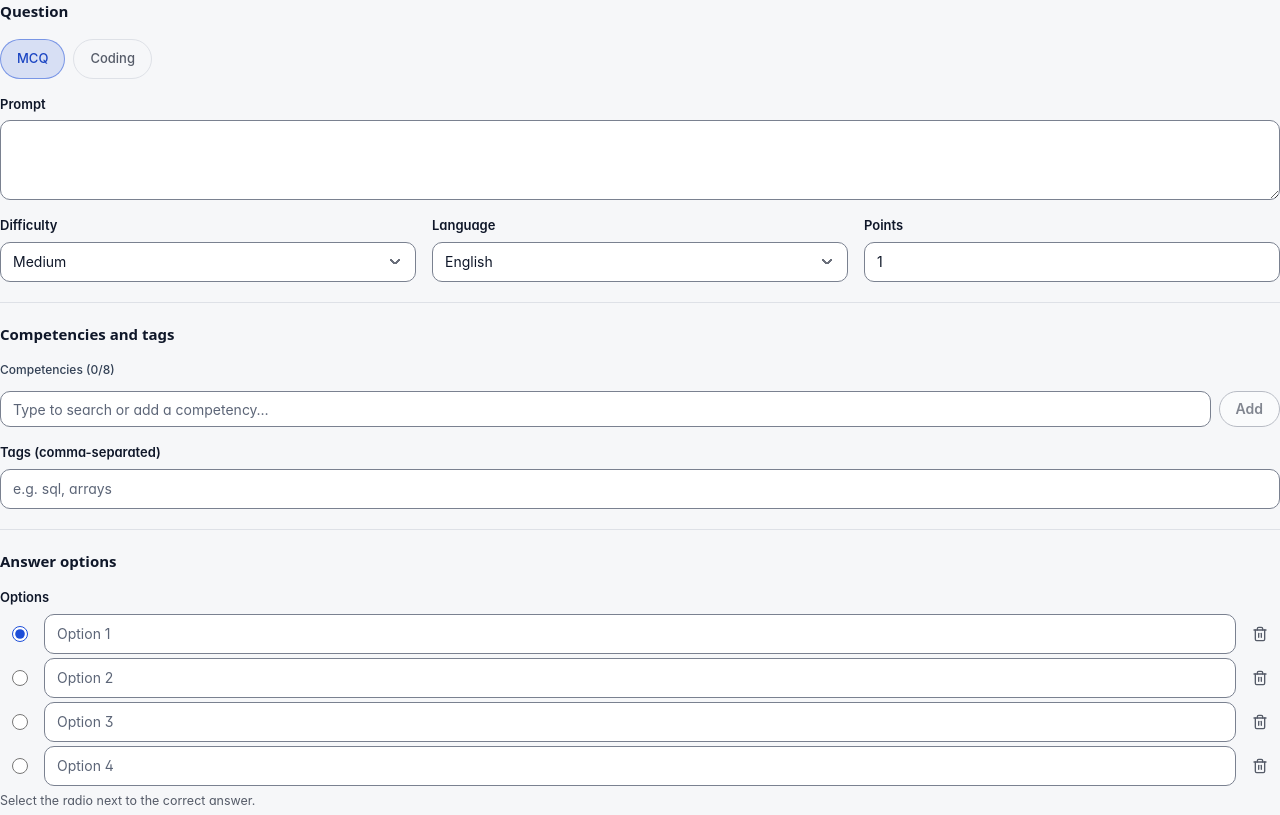
Test case: BankQuestionEditor - creating › switches to the coding form when Coding is chosen
Click the button "Coding" at coordinates (113, 58), box [73,38,152,78]
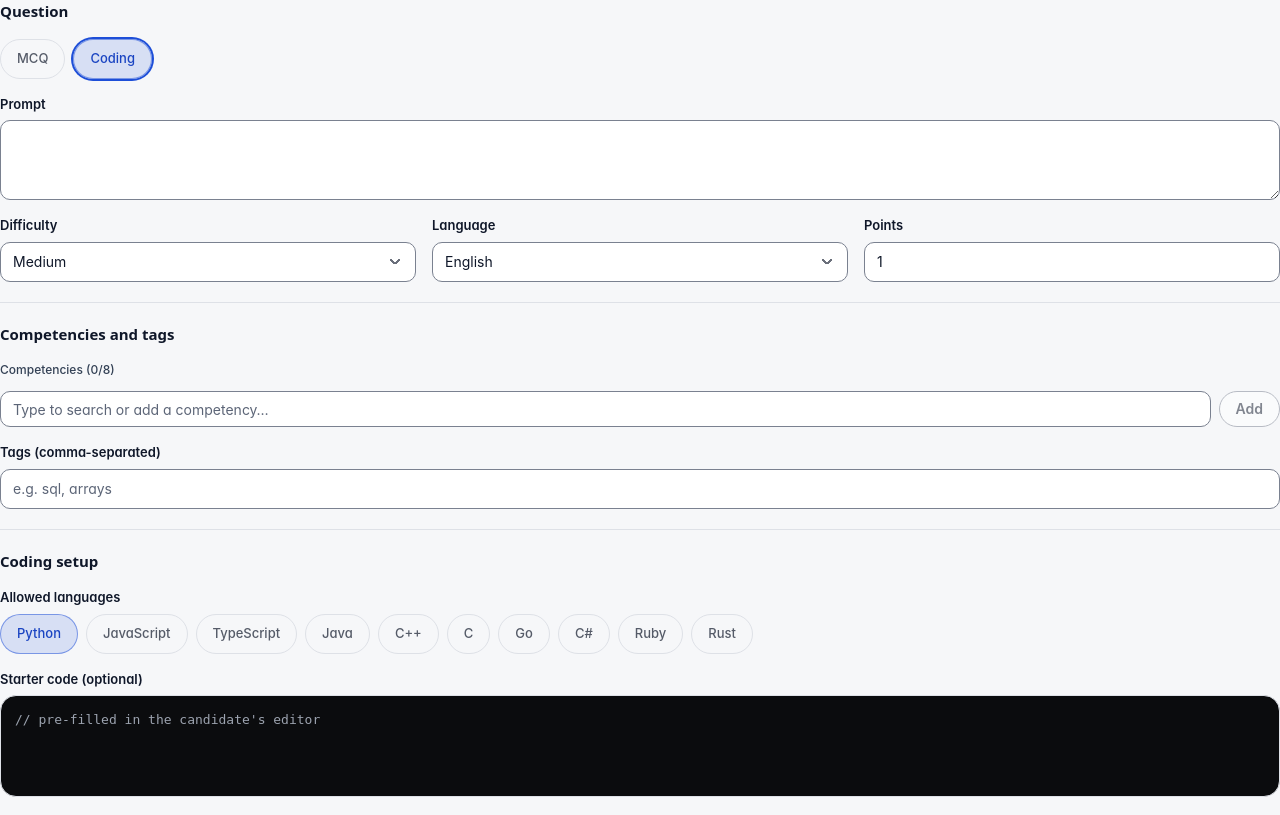
Result: the text "Allowed languages" is shown at [0,589,120,605]
Result: the heading "options" is gone
